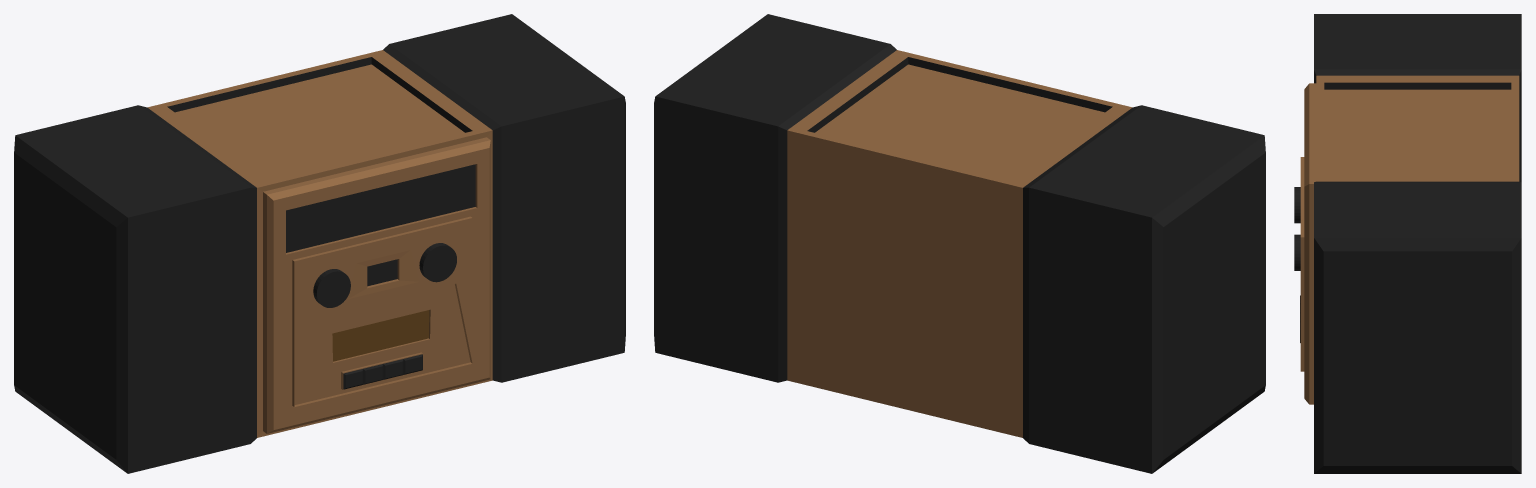
File: Radio.fbx
3 renders of one model, left to right at view 1: azimuth 30°, elevation 25°; view 2: azimuth 150°, elevation 25°; view 3: azimuth 270°, elevation 25°, orthographic. The views are drawn at different scales.
Visible parts, largest first — view 1: Cube; view 2: Cube; view 3: Cube.
Boxes of the visible parts, left/top/right/bottom form: Cube: left=14, top=14, right=625, bottom=473; Cube: left=654, top=14, right=1265, bottom=473; Cube: left=1294, top=14, right=1521, bottom=473.
Bounding box in the file's own units: 2171 × 1043 × 910.
1 material, 1 textured.
